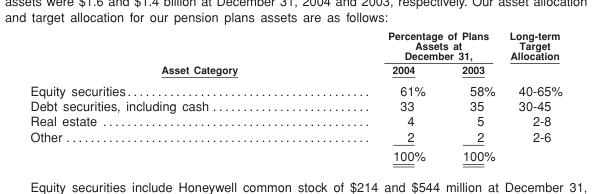table: (29, 29, 561, 162)
table column: (29, 29, 312, 162), (312, 29, 443, 162), (501, 29, 561, 162), (443, 29, 501, 162)
table column header: (29, 29, 561, 79)
table row: (29, 29, 561, 62), (29, 79, 561, 97), (29, 62, 561, 79), (29, 128, 561, 145), (29, 145, 561, 162), (29, 97, 561, 113), (29, 113, 561, 128)
table spanning cell: (29, 29, 312, 79), (312, 29, 501, 62), (501, 29, 561, 79)
